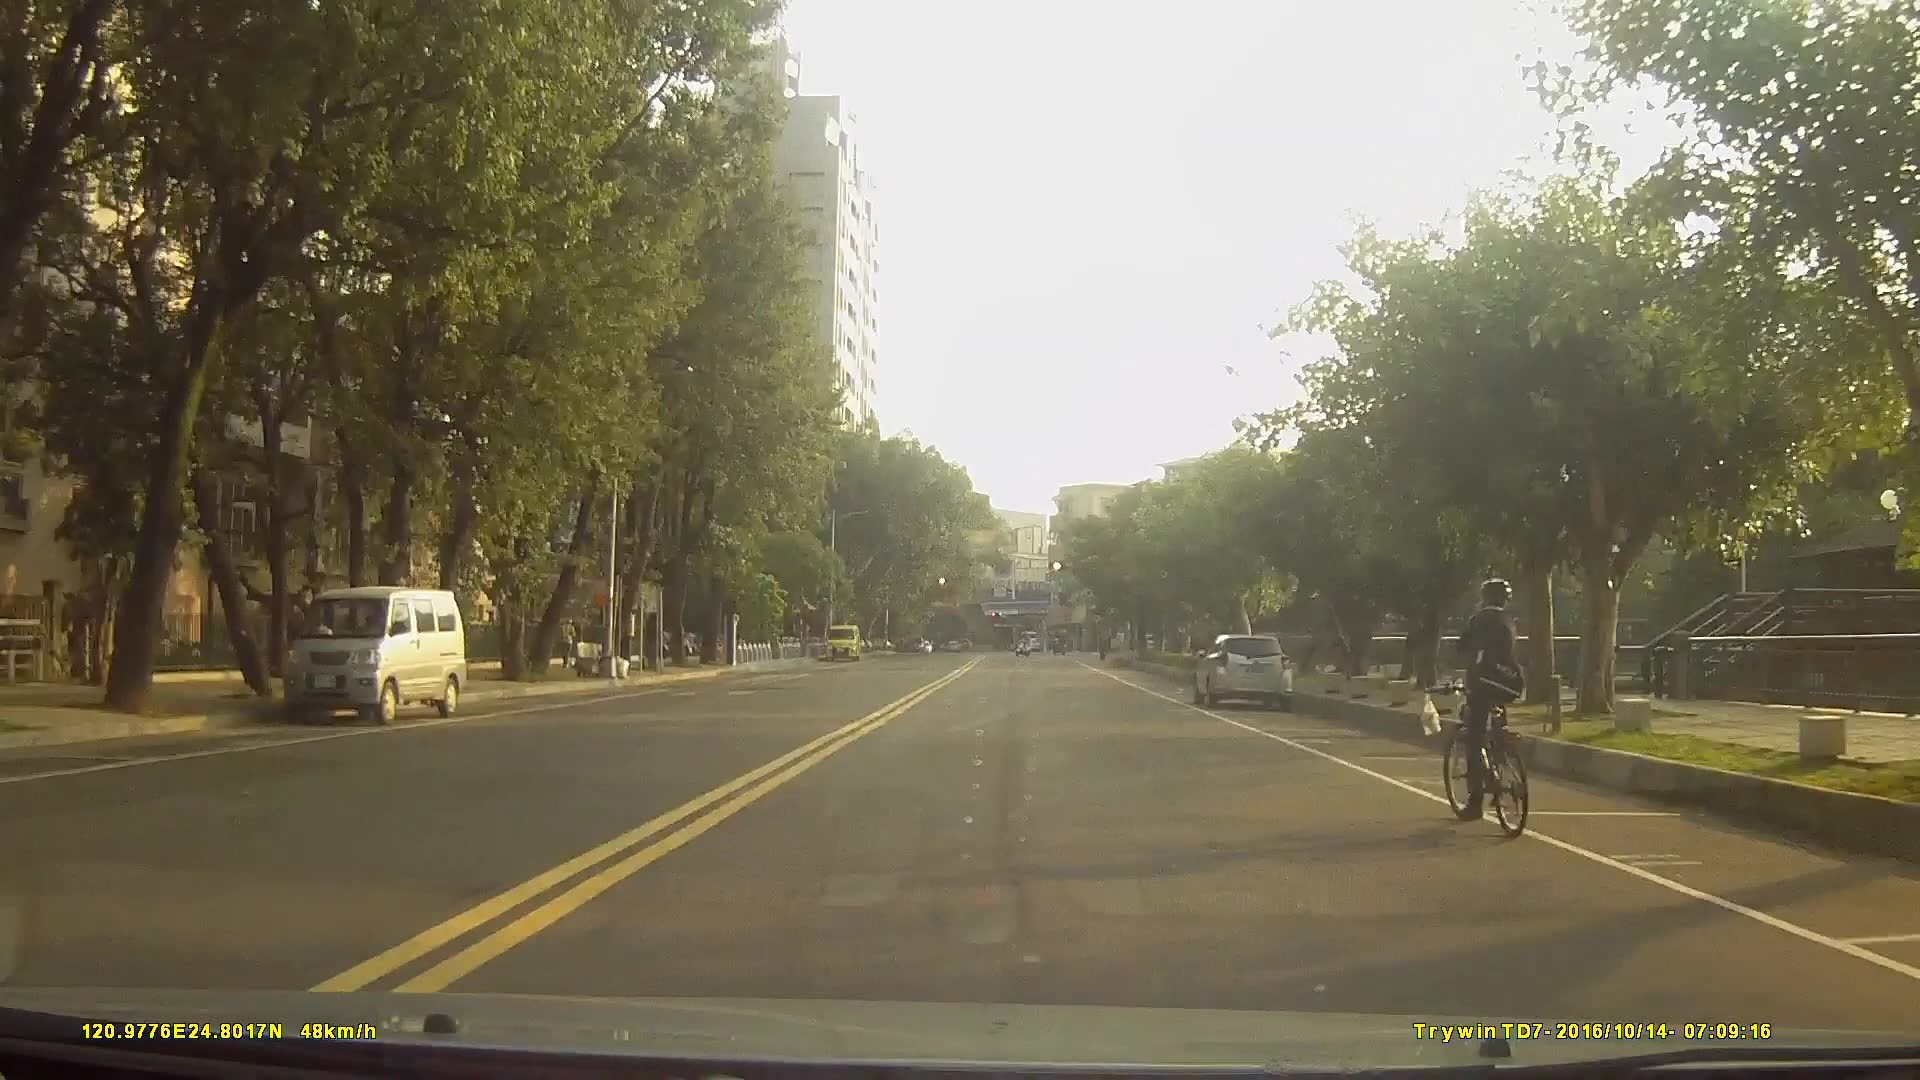rider: (1439, 578, 1536, 839)
vehicle: (277, 583, 469, 728), (1194, 631, 1294, 710), (1013, 628, 1040, 653)
